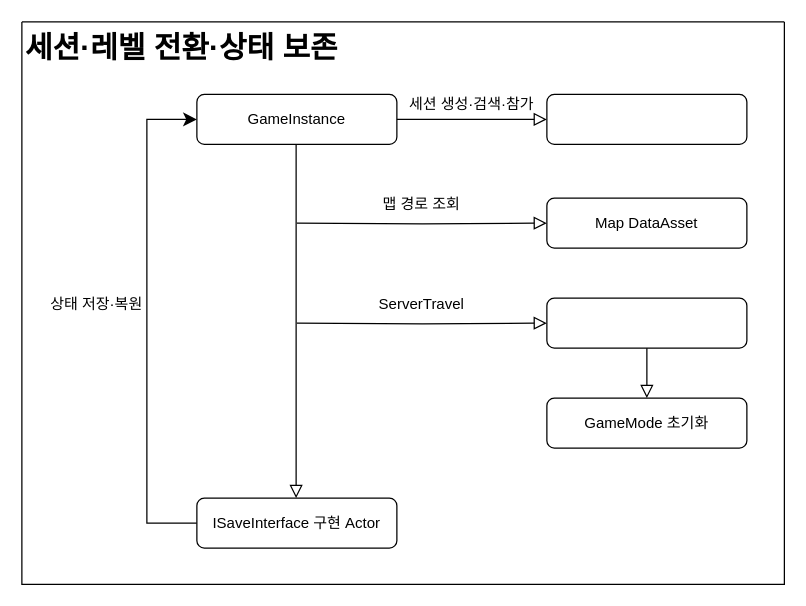
Some shapes in this 806 by 606 pixel diagram are drawn without their labels. Here are the shapes that lost their labels. From the top down, the box of each, then its label:
(546, 93, 747, 144): OnlineSubsystem Steam/LAN
(546, 297, 747, 348): Level 전환
